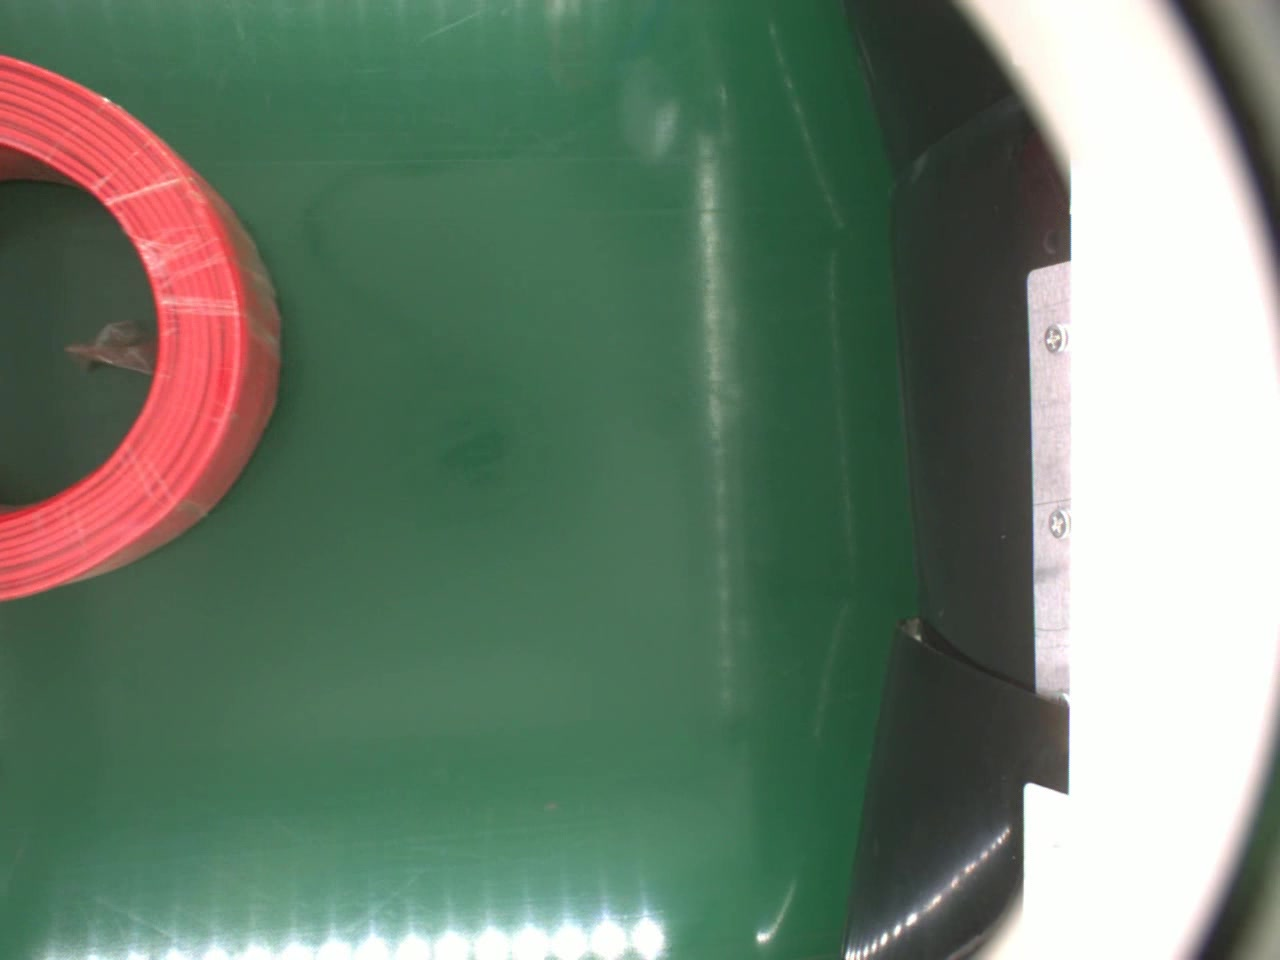red: (0, 61, 282, 601)
